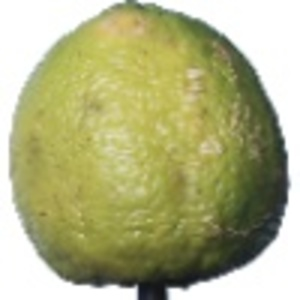limão: (8, 1, 292, 300)
